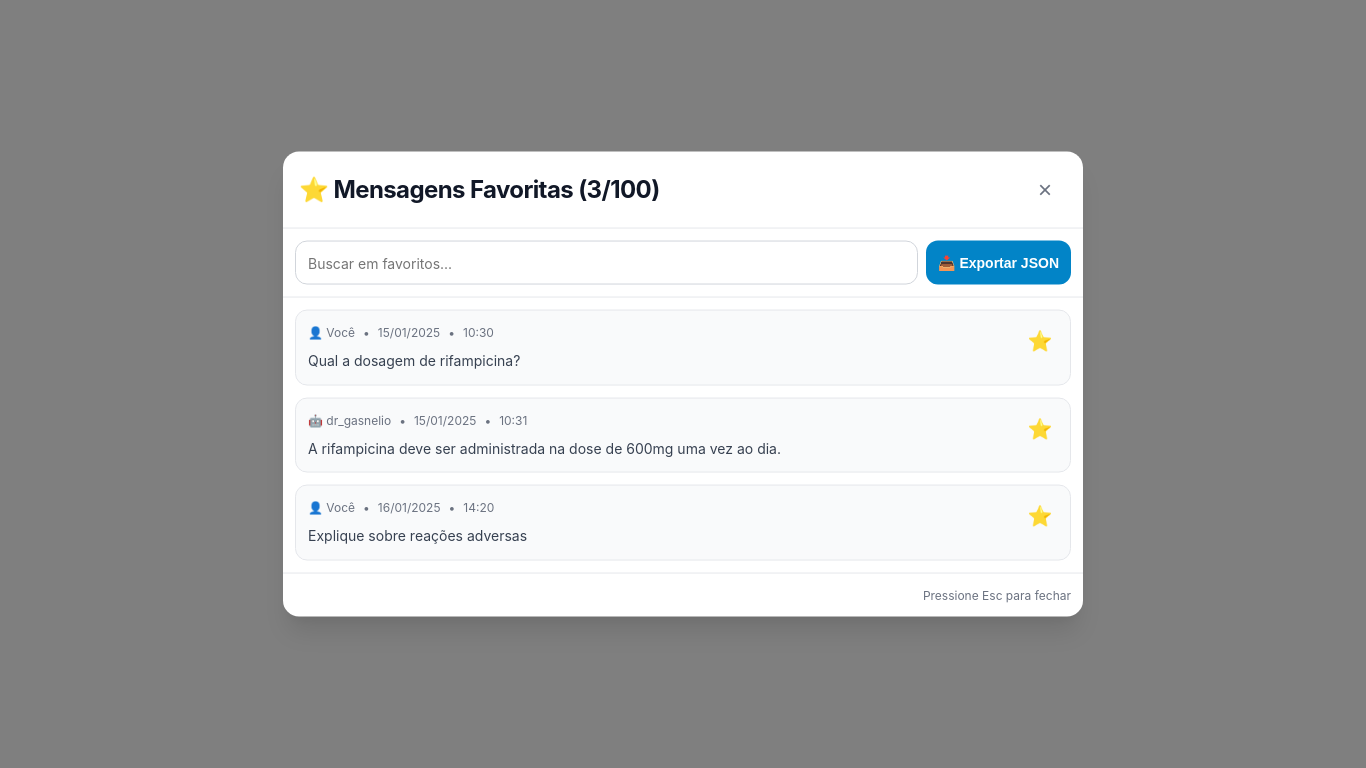
Test: FavoritesModal - Issue #331 › Search Functionality › should show "no results" message when search has no matches
Type "termo inexistente" into the search field at (606, 262), box [295,240,918,284]
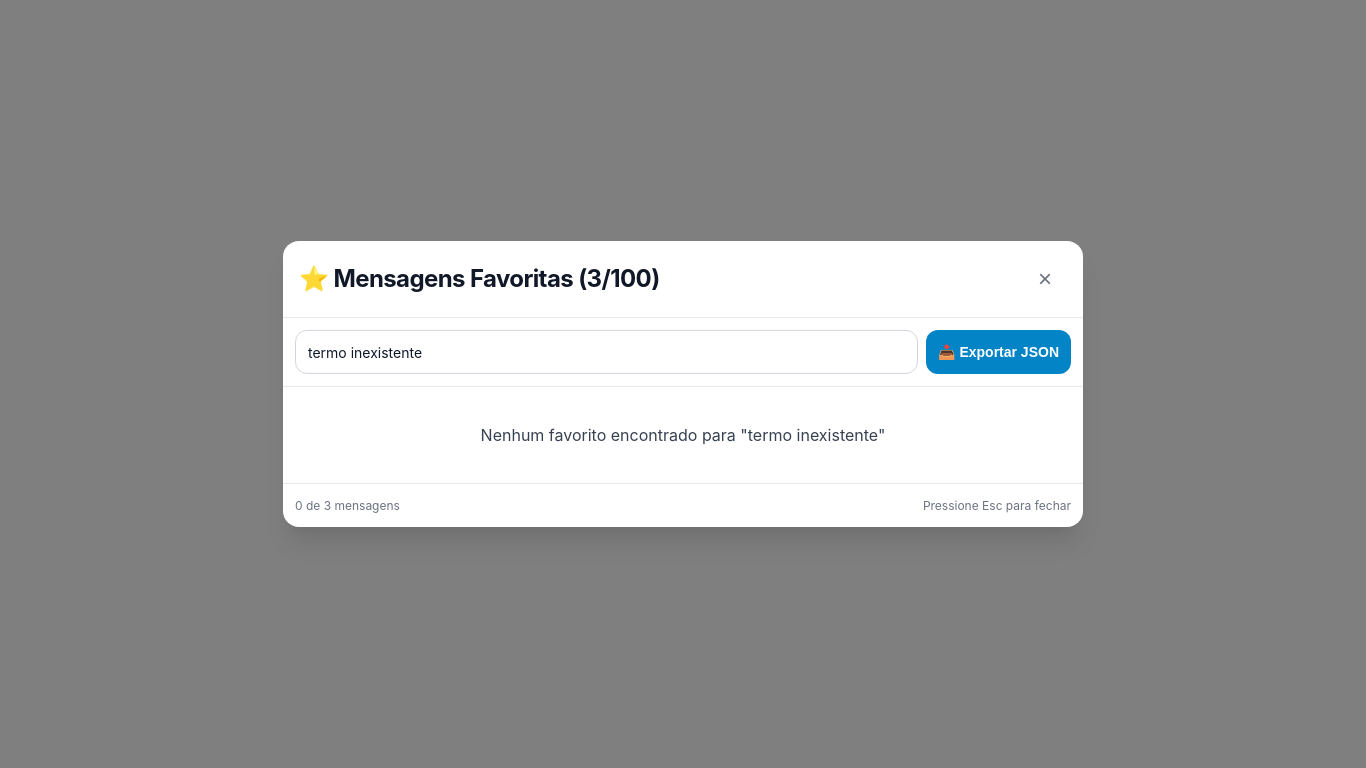
Now the text "Nenhum favorito encontrado para \"termo inexistente\"" is shown, box [481,425,885,445]
